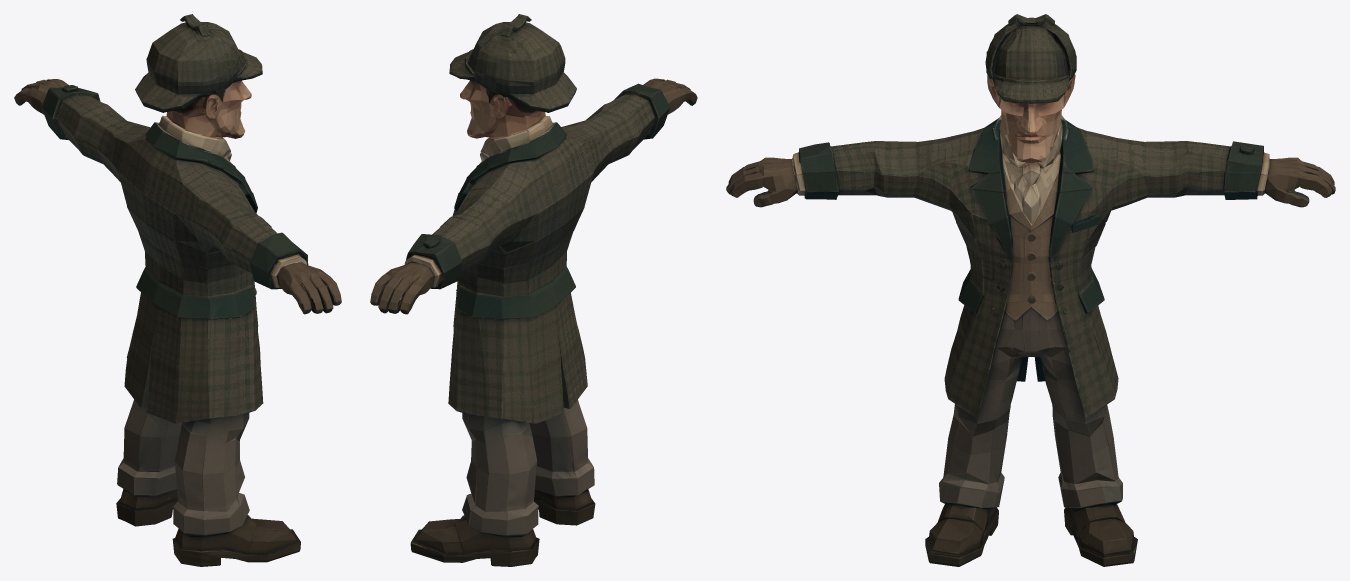
Rendered from SherlockStylizedFullV1NoRig.fbx.
3 views of the same model, side by side, from view 1: azimuth 30°, elevation 25°; view 2: azimuth 150°, elevation 25°; view 3: azimuth 270°, elevation 25° (orthographic). The views are drawn at different scales.
Parts seen in each view (by area): view 1: tripo_node_c5e42cd3.003; view 2: tripo_node_c5e42cd3.003; view 3: tripo_node_c5e42cd3.003.
Boxes of the visible parts, x1,y1,x2,y2 form: tripo_node_c5e42cd3.003: [14, 14, 341, 566]; tripo_node_c5e42cd3.003: [370, 14, 697, 566]; tripo_node_c5e42cd3.003: [726, 14, 1335, 566].
Bounding box in the file's own units: 2.07 × 0.4666 × 1.95.
1 material, 1 textured.
